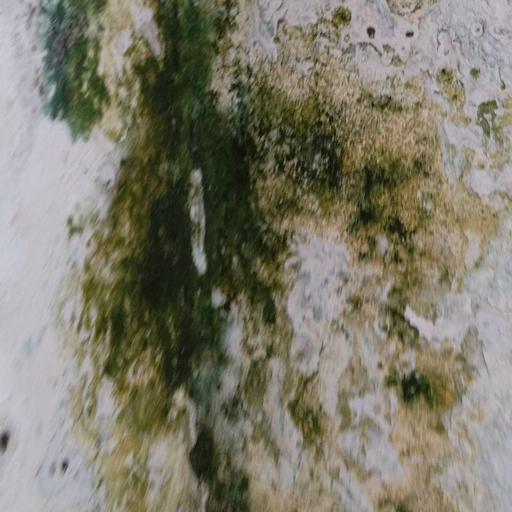algae: (25, 5, 489, 512)
